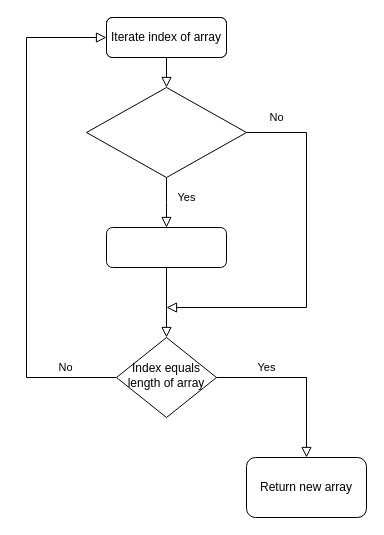
Some shapes in this 384 by 535 pixel diagram are drawn without their labels. The shapes that lost their labels are listed below. From the top down, each one's centre as x and y in pixels, then its label:
At (166,132): "Element length less than 3".
At (166,247): "Add element to new array".
